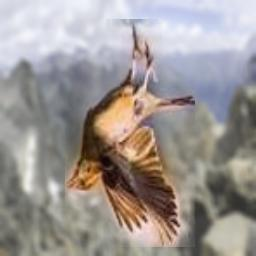Sparrow: (65, 19, 195, 247)
